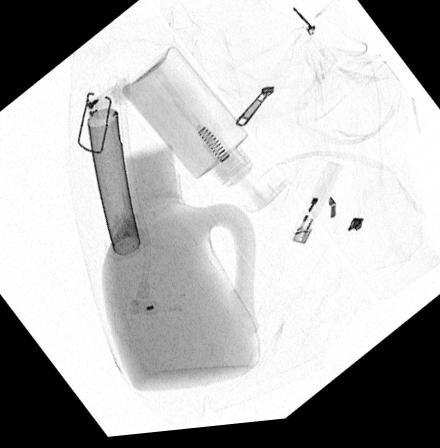Lighter: (291, 167, 343, 249)
